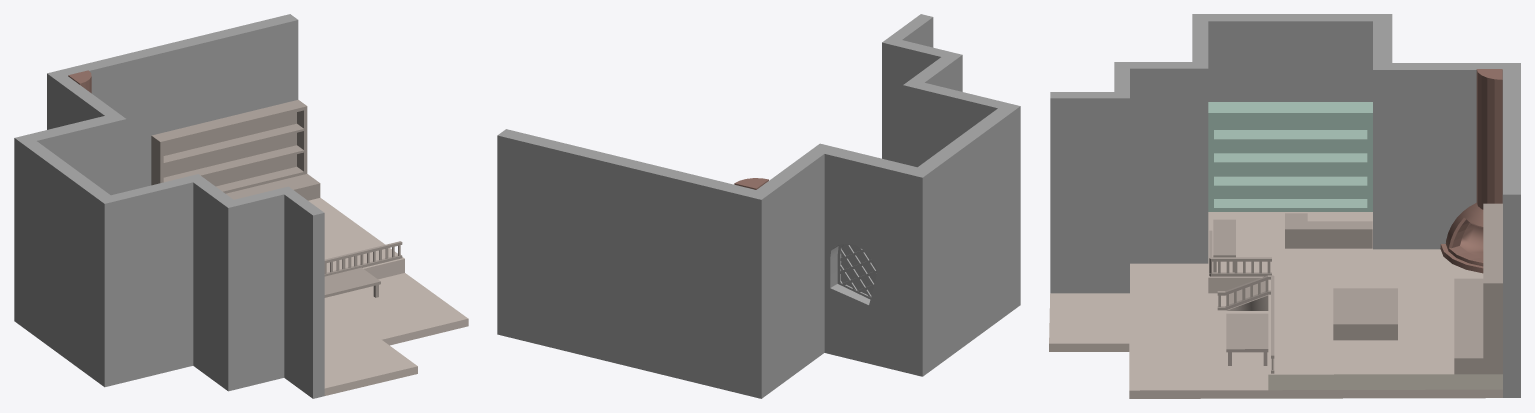
The model's file is Indoor 1.fbx.
The picture shows the model from 3 angles, left to right: view 1: azimuth 30°, elevation 25°; view 2: azimuth 150°, elevation 25°; view 3: azimuth 270°, elevation 25°; orthographic projection. The views are drawn at different scales.
Parts seen in each view (by area): view 1: Shoppe_Shelf; view 2: Shoppe_Shelf; view 3: Shoppe_Shelf.
Part boxes in pixels (bbox=[...]): Shoppe_Shelf: bbox=[14, 14, 468, 398]; Shoppe_Shelf: bbox=[497, 14, 1020, 398]; Shoppe_Shelf: bbox=[1049, 14, 1520, 398].
Size of the model in its own units: 2297 by 1207 by 2523.
